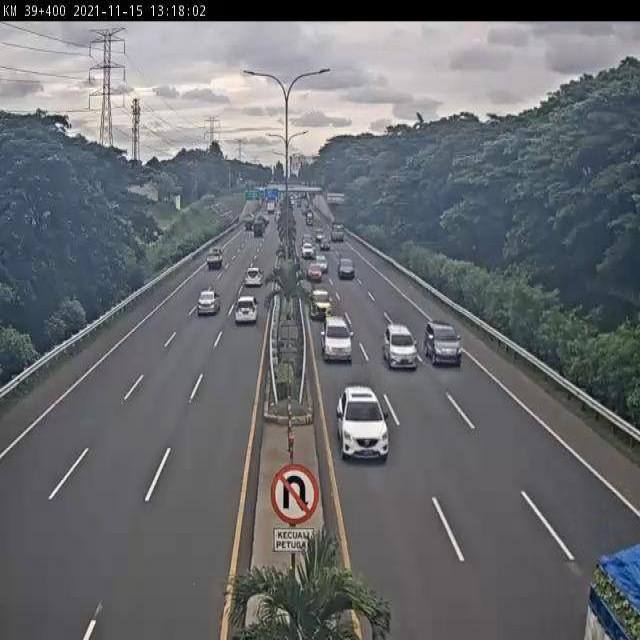car: (336, 385, 390, 456), (423, 318, 463, 366), (381, 322, 417, 370), (320, 314, 353, 362), (232, 293, 261, 327), (194, 286, 222, 318), (308, 289, 334, 319), (244, 264, 265, 291)
